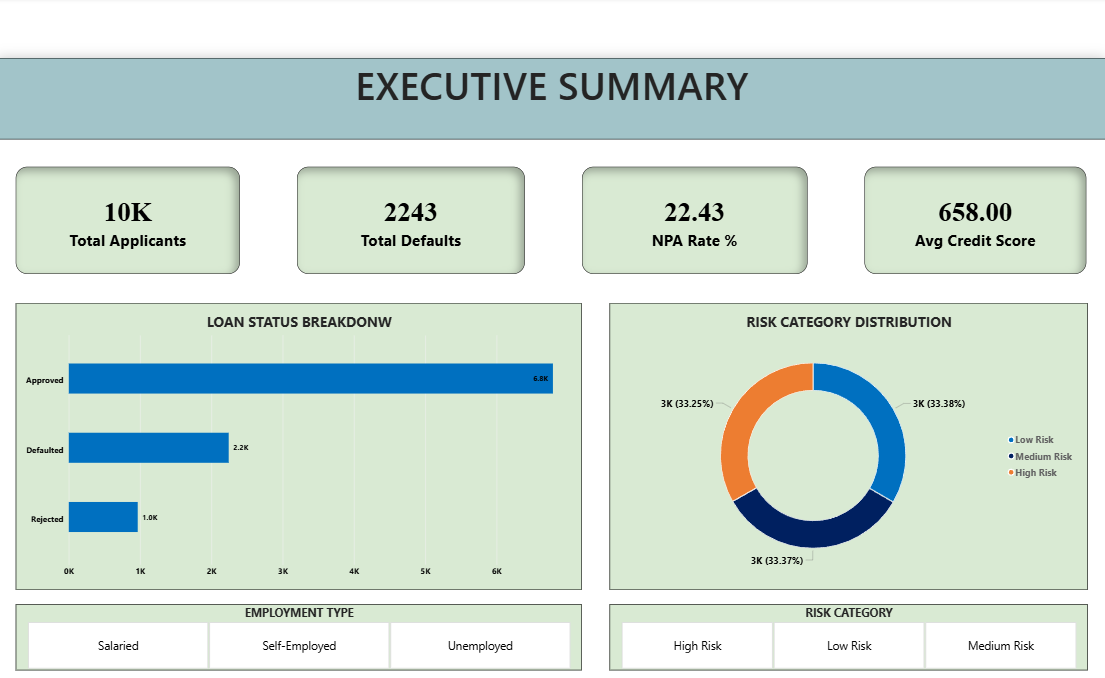

Layout of this report page (visuals, bound fields, positions):
{"tool":"powerbi","page":{"name":"Executive Summary","canvas":[1920,1080],"ordinal":0},"visuals":[{"type":"shape","title":"EXECUTIVE SUMMARY","box":[0,0,1920,140.8],"z":0},{"type":"card","fields":{"Values":["Measure Table.Total Applicants"]},"box":[32,187.7,388.3,185.6],"z":1000},{"type":"card","fields":{"Values":["vw_city_risk.Total Defaults"]},"box":[519.1,187.7,394.7,185.6],"z":2000},{"type":"card","fields":{"Values":["vw_npa_by_employment.NPA Rate %"]},"box":[1012.6,187.7,390.4,185.6],"z":3000},{"type":"card","fields":{"Values":["vw_city_risk.Avg Credit Score"]},"box":[1501.9,187.7,384,185.6],"z":4000},{"type":"donutChart","title":"RISK CATEGORY DISTRIBUTION","fields":{"Category":["vw_risk_scoring.risk_category"],"Y":["Measure Table.Total Applicants"]},"box":[1059.9,424.5,827.6,496.6],"z":5000},{"type":"clusteredBarChart","title":"LOAN STATUS BREAKDONW","fields":{"Category":["vw_risk_scoring.loan_status"],"Y":["Measure Table.Total Applicants"]},"box":[32,424.5,979.8,496.6],"z":6000},{"type":"slicer","title":"EMPLOYMENT TYPE","fields":{"Values":["vw_risk_scoring.employment_type"]},"box":[32,945.1,979.8,114.8],"z":7000},{"type":"slicer","title":"RISK CATEGORY","fields":{"Values":["vw_risk_scoring.risk_category"]},"box":[1059.9,945.1,827.6,114.8],"z":8000}]}

Visuals, with their boxes on the page's 1920x1080 design canvas (x1, y1, x2, y2). These are canvas units, not pixel positions in the 1105x678 screenshot, which may show the page scaled, cropped or inside an application window:
"EXECUTIVE SUMMARY" shape: crop(0, 0, 1920, 141)
card - Measure Table.Total Applicants: crop(32, 188, 420, 373)
card - vw_city_risk.Total Defaults: crop(519, 188, 914, 373)
card - vw_npa_by_employment.NPA Rate %: crop(1013, 188, 1403, 373)
card - vw_city_risk.Avg Credit Score: crop(1502, 188, 1886, 373)
"RISK CATEGORY DISTRIBUTION" donutChart: crop(1060, 424, 1888, 921)
"LOAN STATUS BREAKDONW" clusteredBarChart: crop(32, 424, 1012, 921)
"EMPLOYMENT TYPE" slicer: crop(32, 945, 1012, 1060)
"RISK CATEGORY" slicer: crop(1060, 945, 1888, 1060)
